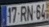1: (7, 7, 11, 23)
4: (41, 4, 46, 20)
6: (35, 4, 41, 20)
7: (11, 6, 17, 23)
N: (26, 4, 33, 21)
R: (20, 6, 27, 22)
